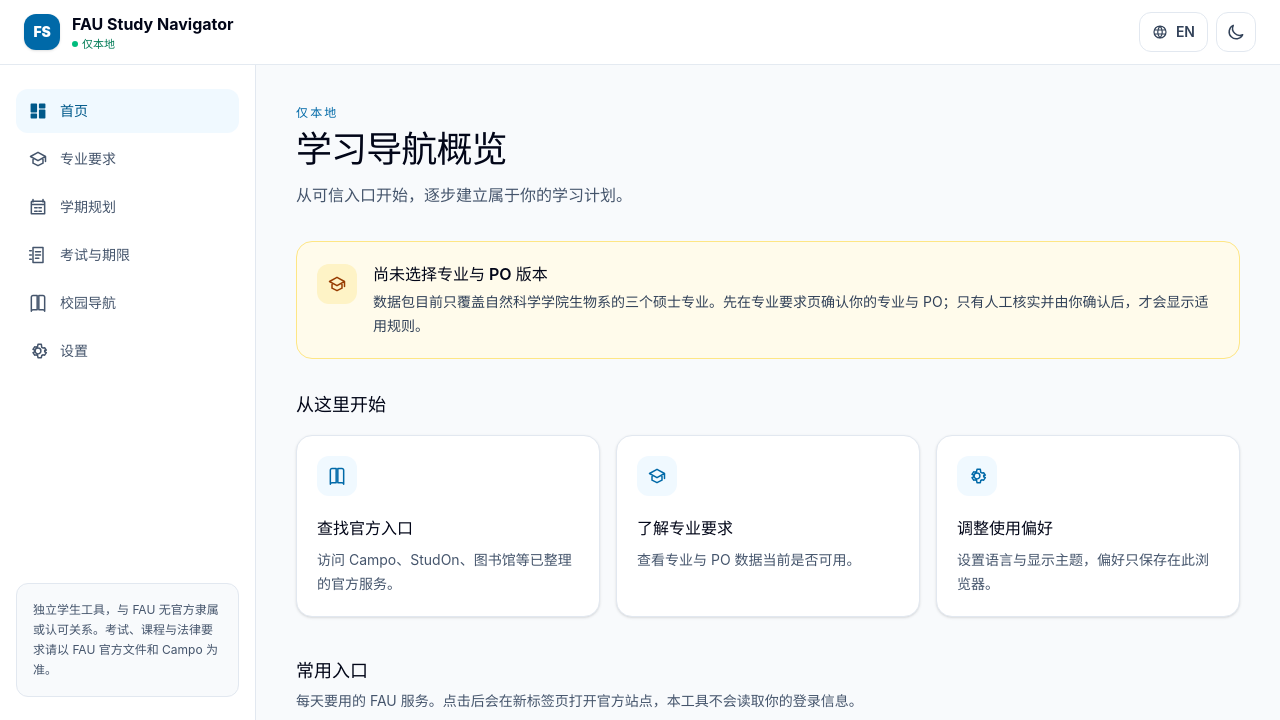
Test: application shell › switches the entire shell to English and persists the choice
Click the button with aria-label "切换为英文" at {"x": 1173, "y": 32}, box [1139, 12, 1208, 52]
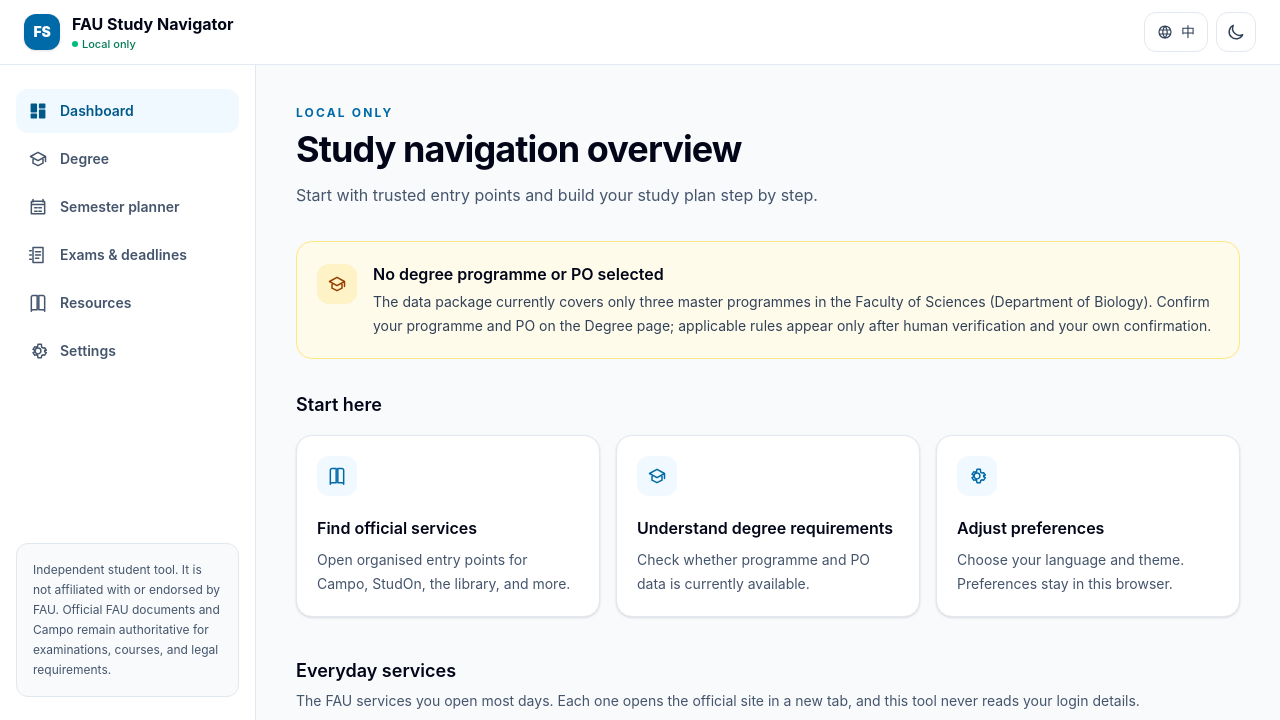
Now the heading "Study navigation overview" is shown, box [296, 127, 742, 171]
